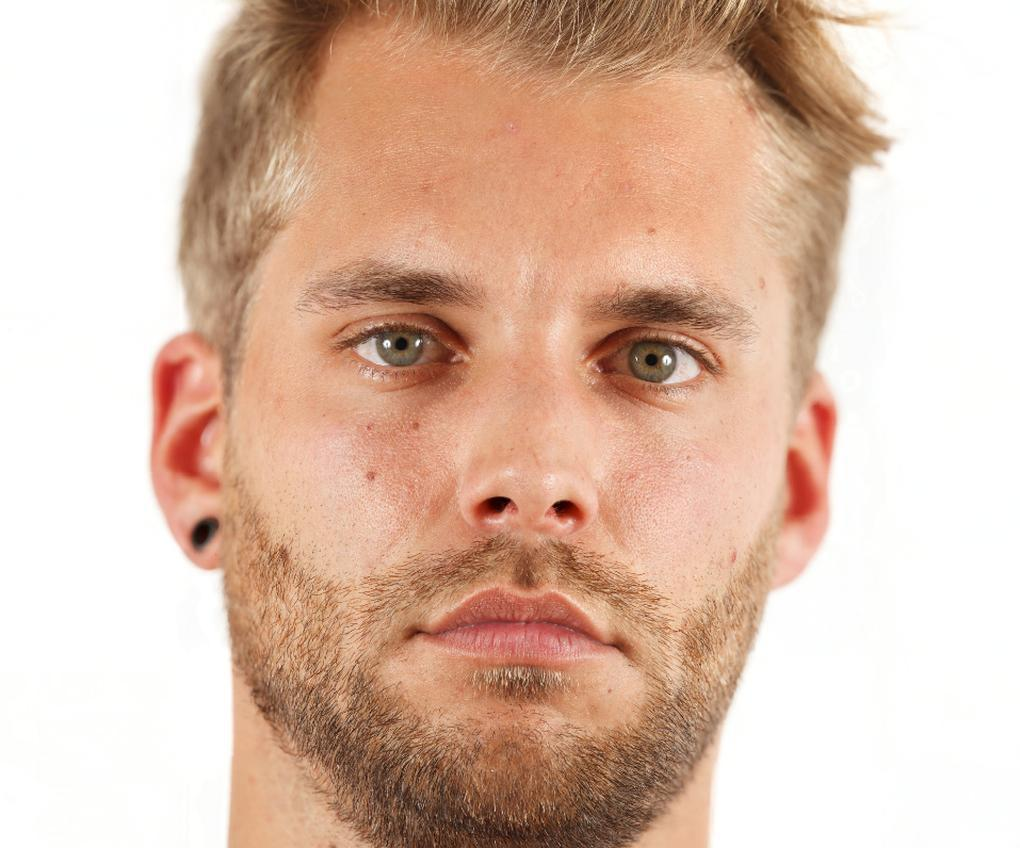Sober: (271, 68, 756, 716)
